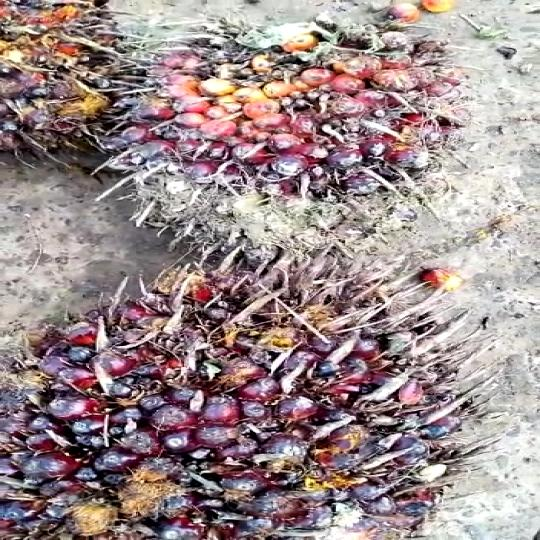masak: (0, 235, 540, 540), (71, 0, 523, 253)
